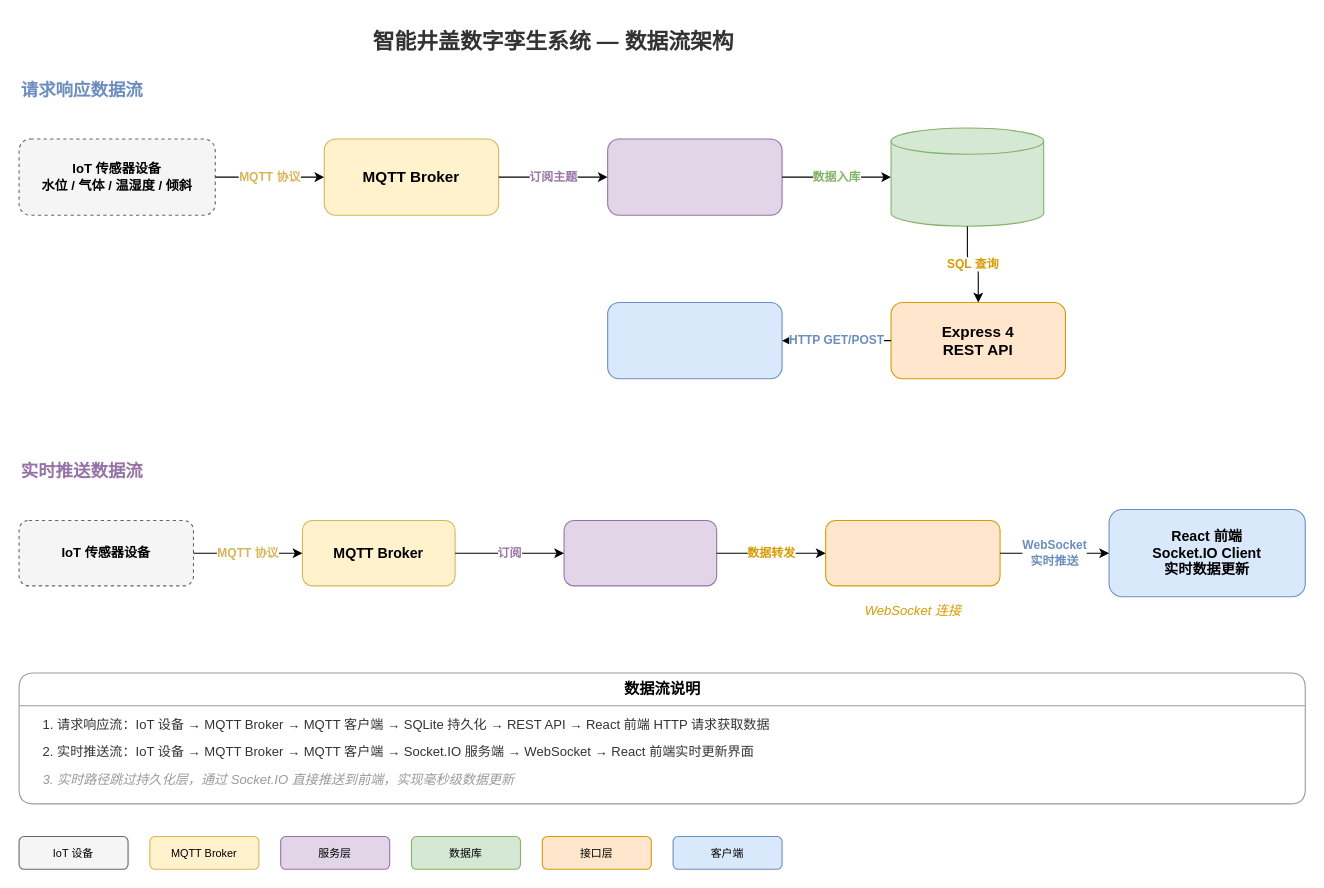
The diagram is 1324 pixels wide and 888 high, and some of its shapes have lost their labels. The shapes that lost their labels are listed below. From the top down, each one's centre as x and y in pixels, then its label:
At point (694, 176): "MQTT 客户端 (Node.js)".
At point (967, 176): "SQLite 数据持久化".
At point (694, 340): "React 前端 HTTP 请求 (Axios)".
At point (640, 552): "MQTT 客户端".
At point (912, 552): "Socket.IO 服务端".
